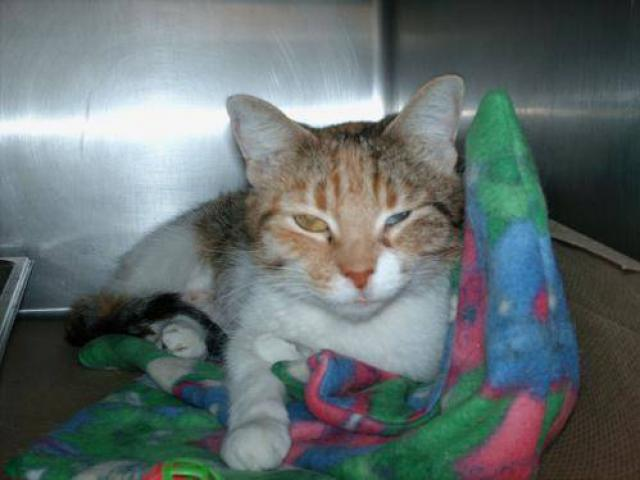cat: (57, 78, 487, 465)
